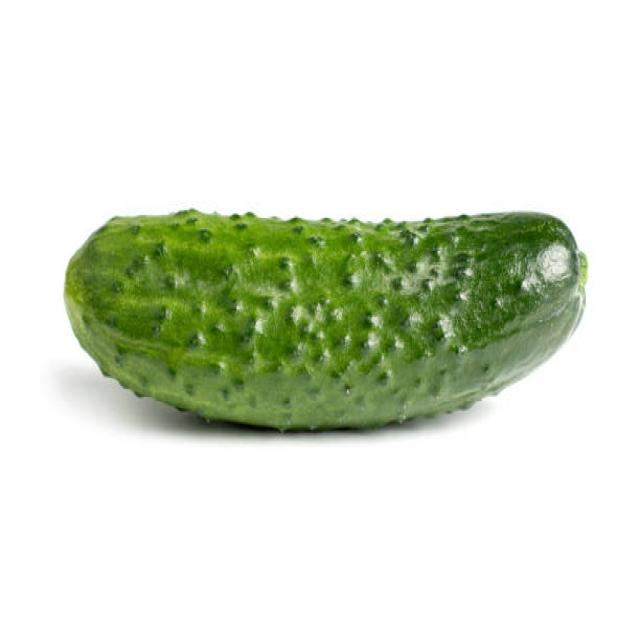cucumber: (65, 208, 586, 428)
